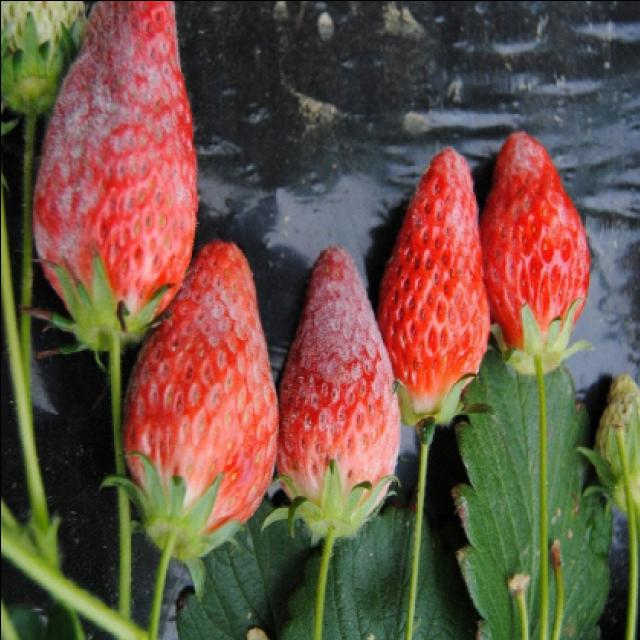Powdery Mildew Fruit: (29, 2, 198, 349), (118, 238, 277, 554), (271, 244, 402, 539), (478, 127, 582, 286), (390, 144, 486, 287)
